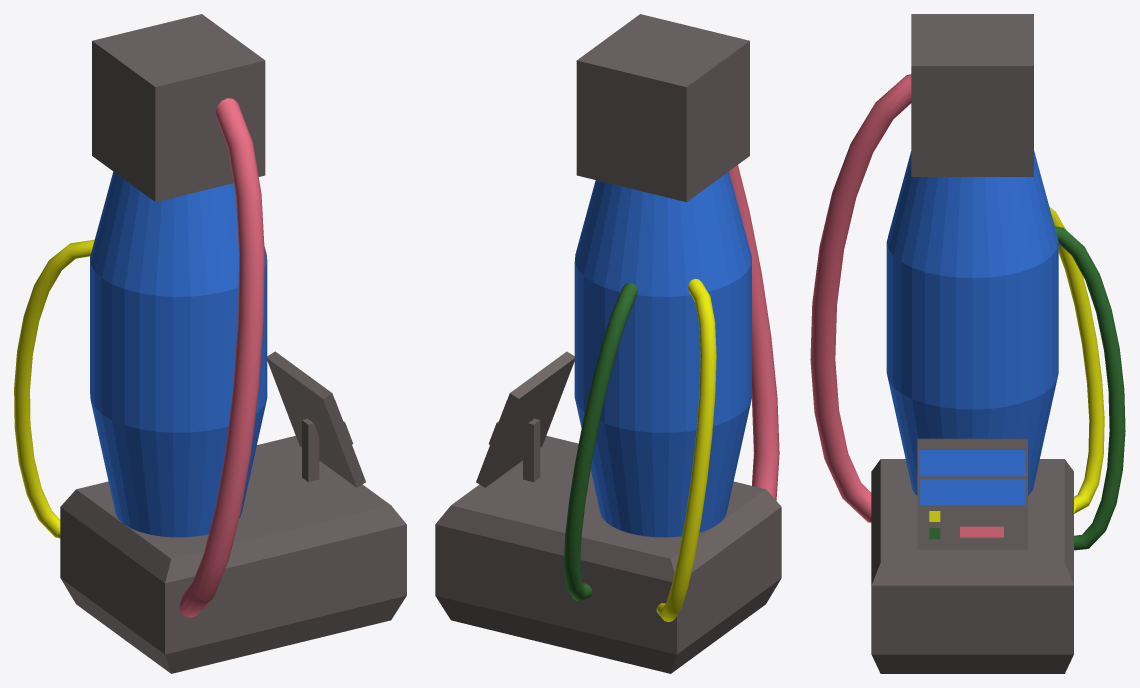
File: vodichka.fbx
The picture shows the model from 3 angles, left to right: view 1: azimuth 30°, elevation 25°; view 2: azimuth 150°, elevation 25°; view 3: azimuth 270°, elevation 25°; orthographic projection. The views are drawn at different scales.
Parts seen in each view (by area): view 1: BezierCurve.002; view 2: BezierCurve.002; view 3: BezierCurve.002.
Boxes of the visible parts, x1=… form: BezierCurve.002: x1=14, y1=14, x2=406, y2=673; BezierCurve.002: x1=435, y1=14, x2=781, y2=673; BezierCurve.002: x1=810, y1=14, x2=1125, y2=673.
Size of the model in its own units: 510 by 1000 by 513.
